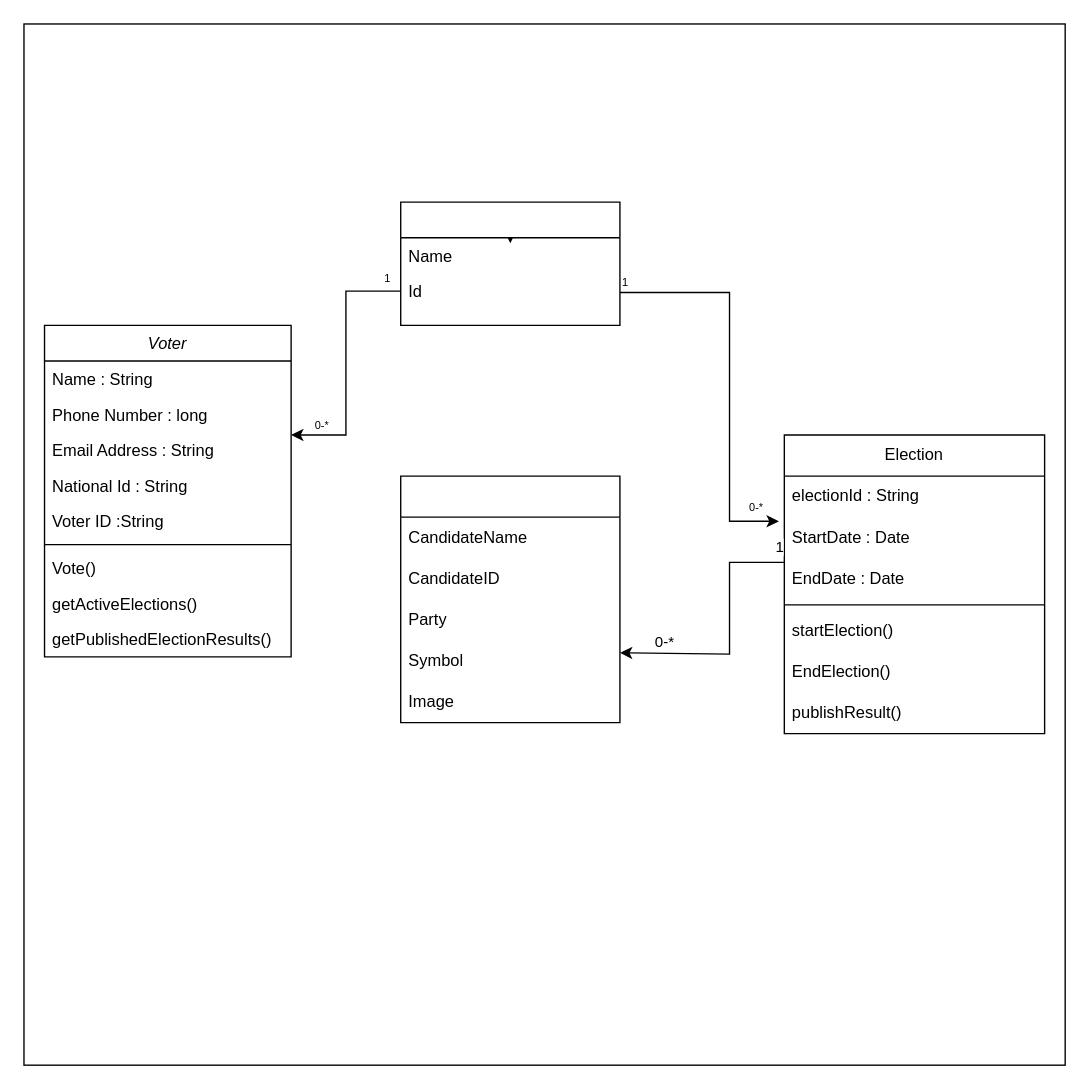
The diagram is 1089 pixels wide and 1089 high, and some of its shapes have lost their labels. The box of each missing label's shape, as (x1, y1, x2, y2) in pixels:
Candidates: (399, 475, 620, 723)
Constituency: (399, 201, 620, 325)
